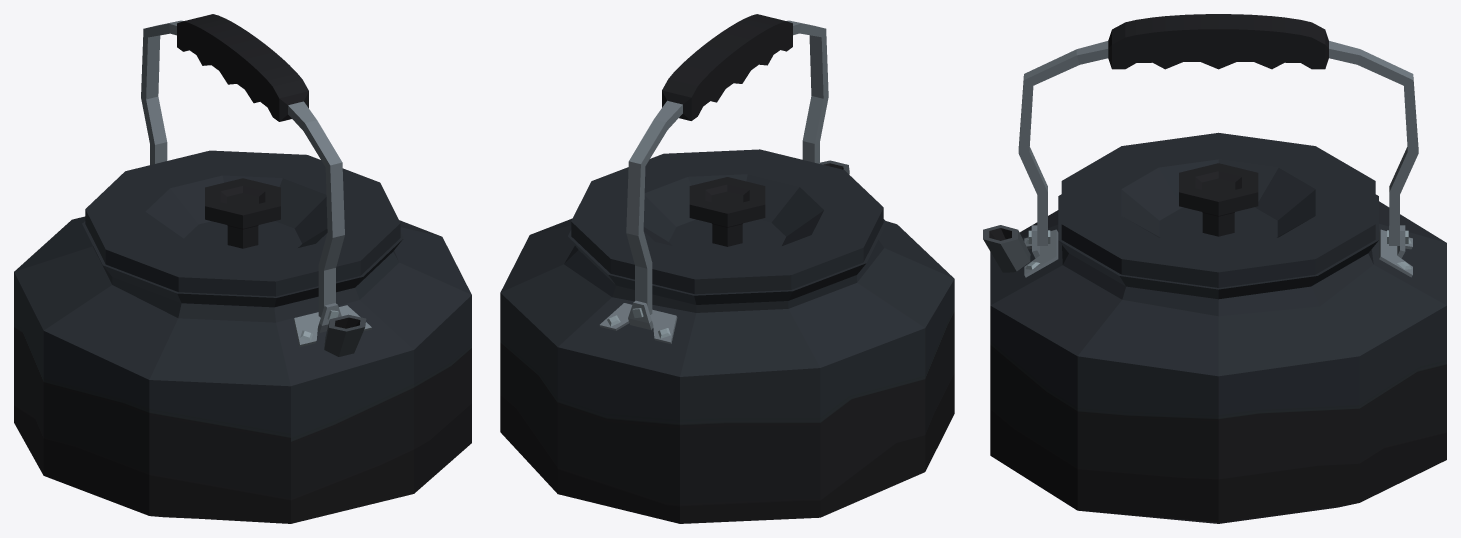
File: SM_Kettle.gltf
The picture shows the model from 3 angles, left to right: view 1: azimuth 30°, elevation 25°; view 2: azimuth 150°, elevation 25°; view 3: azimuth 270°, elevation 25°; orthographic projection. The views are drawn at different scales.
Visible parts, largest first — view 1: SM_Kettle, SM_Kettle_Lid, SM_Kettle_Handle; view 2: SM_Kettle, SM_Kettle_Lid, SM_Kettle_Handle; view 3: SM_Kettle, SM_Kettle_Lid, SM_Kettle_Handle.
Part boxes in pixels (x1,y1,x2,y2): SM_Kettle: (14,216,471,523); SM_Kettle_Lid: (85,150,400,296); SM_Kettle_Handle: (141,14,344,317); SM_Kettle: (500,160,954,523); SM_Kettle_Lid: (571,149,883,294); SM_Kettle_Handle: (626,14,828,314); SM_Kettle: (983,194,1446,523); SM_Kettle_Lid: (1061,132,1375,287); SM_Kettle_Handle: (1018,14,1418,245).
Bounding box in the file's own units: 0.4193 × 0.4016 × 0.4051.
Materials: 1 (1 with a texture image).
